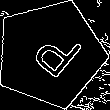P_SW: (19, 23, 82, 85)
